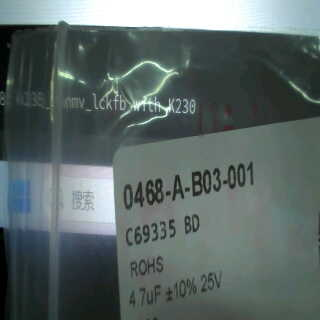4.7uF: (127, 277, 160, 313)
